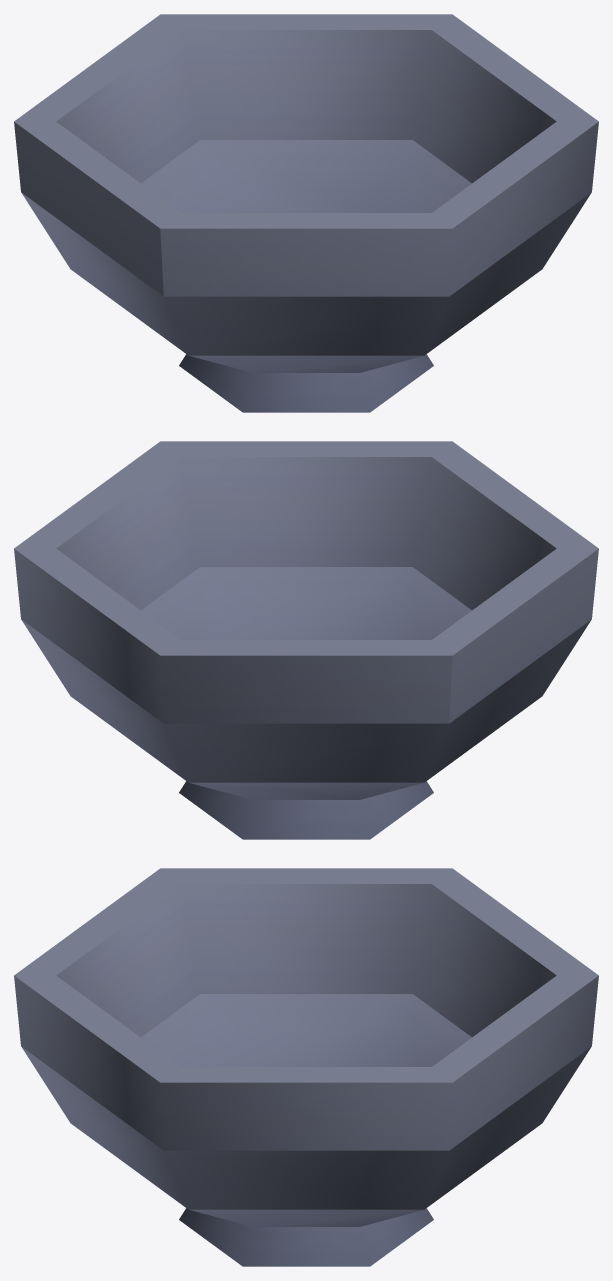
Rendered from kenney-food-mortar.glb.
The picture shows the model from 3 angles, top to bottom: view 1: azimuth 30°, elevation 25°; view 2: azimuth 150°, elevation 25°; view 3: azimuth 270°, elevation 25°; orthographic projection.
Parts seen in each view (by area): view 1: mortar; view 2: mortar; view 3: mortar.
Boxes of the visible parts, bbox=[...] form: mortar: bbox=[14, 14, 598, 412]; mortar: bbox=[14, 441, 598, 839]; mortar: bbox=[14, 868, 598, 1266].
Bounding box in the file's own units: 0.3956 × 0.2104 × 0.4567.
Materials: 1 (1 with a texture image).
